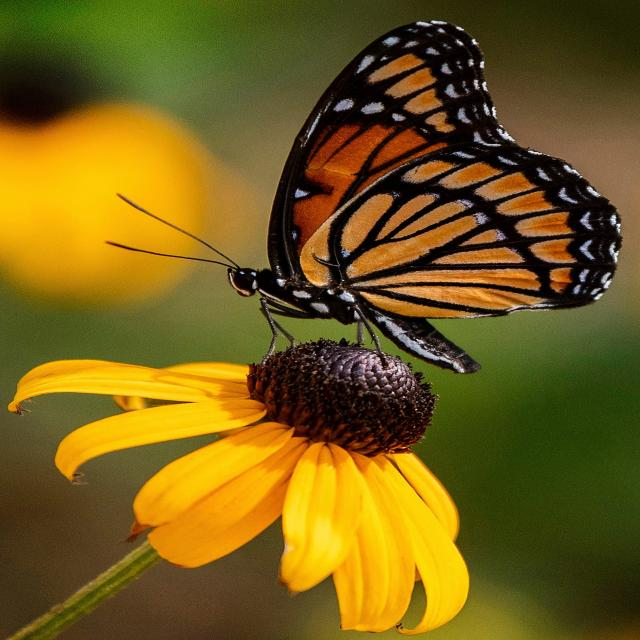butterfly: (107, 21, 622, 374)
